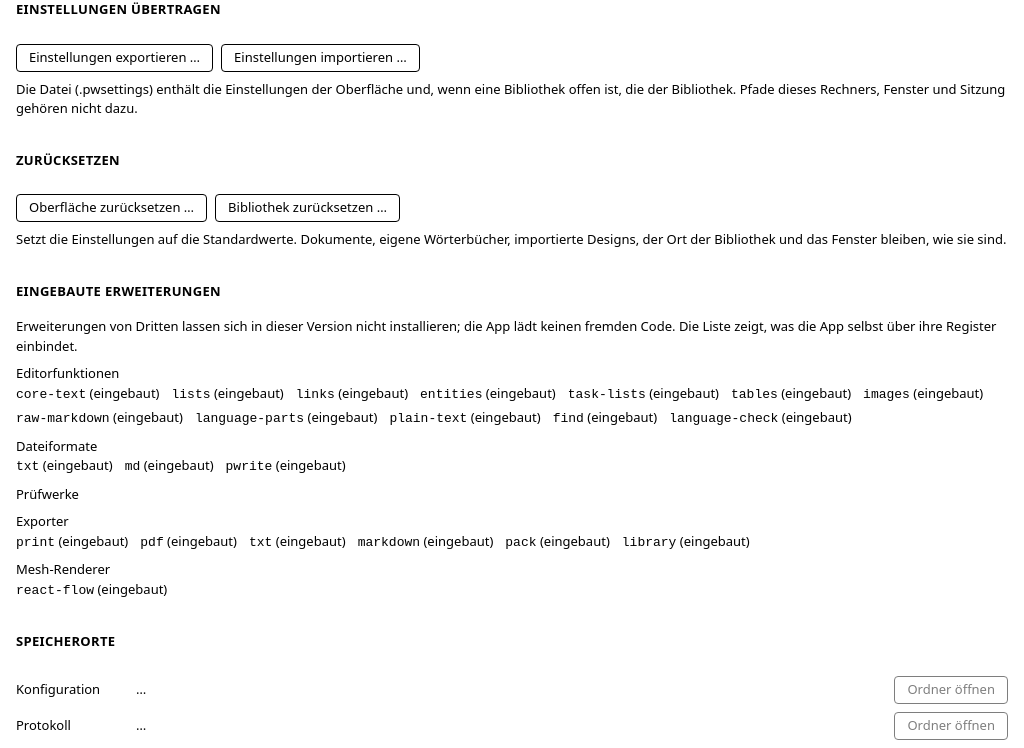
Test: AdvancedSettings › previews an import and applies it by token only
This screenshot has width=1024, height=748.
Click the button with test id "settings-import" at (320, 58), box [221,44,420,72]
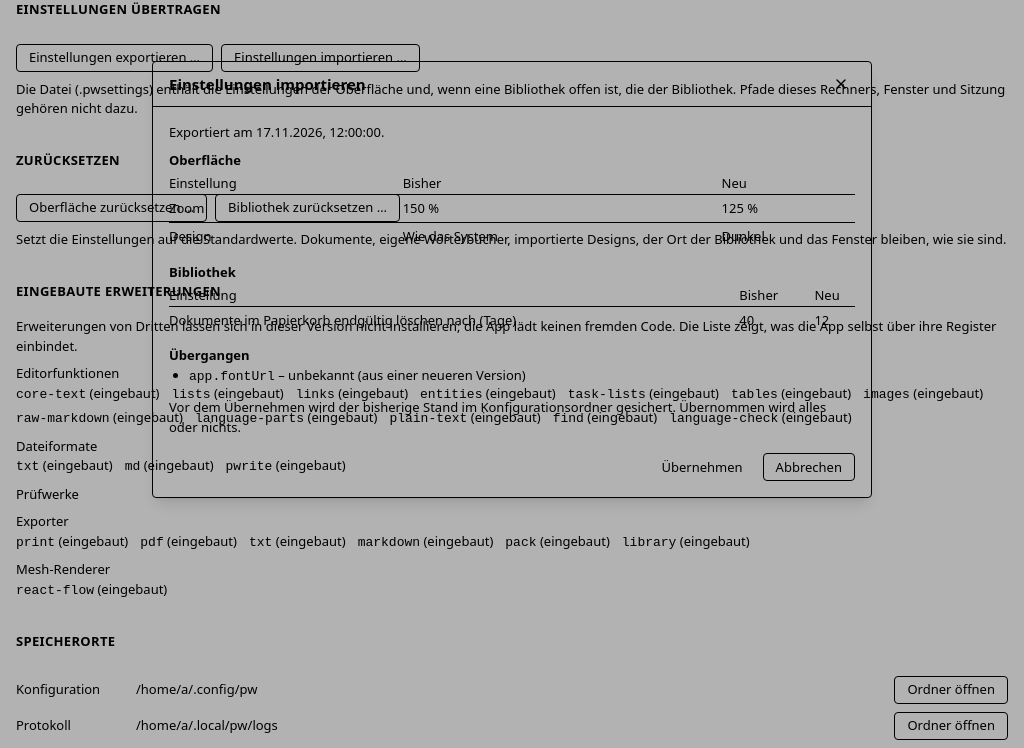
Result: the text "Zoom" reads "Zoom 150 % 125 %" at [169,194,855,223]
Result: the table with test id "settings-changes-library" shows "Dokumente im Papierkorb endgültig löschen nach (Tage)" at [169,311,516,329]
Result: the element with test id "settings-import-skipped" shows "app.fontUrl" at [189,369,275,384]
Click the button with test id "settings-import-apply" at (702, 467), box [650,453,755,481]
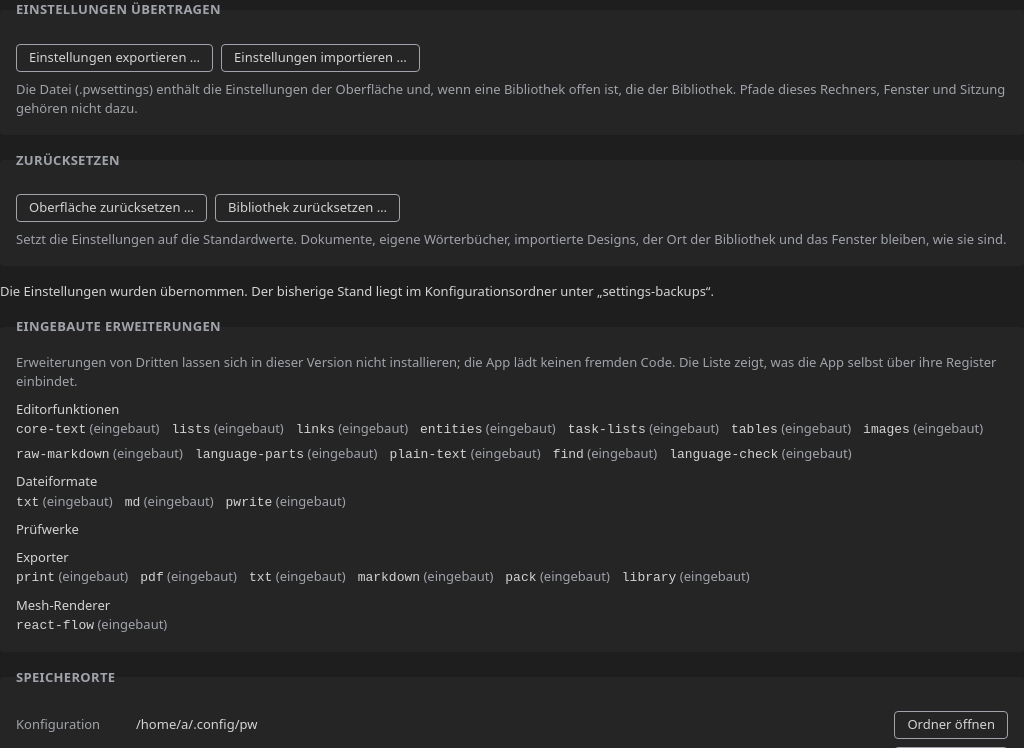
Result: the text "Die Einstellungen wurden übernommen. Der bisherige Stand liegt im Konfigurationsordner unter „settings-backups“." is shown at [0,282,714,300]
Result: the dialog with test id "settings-import-preview" is gone
